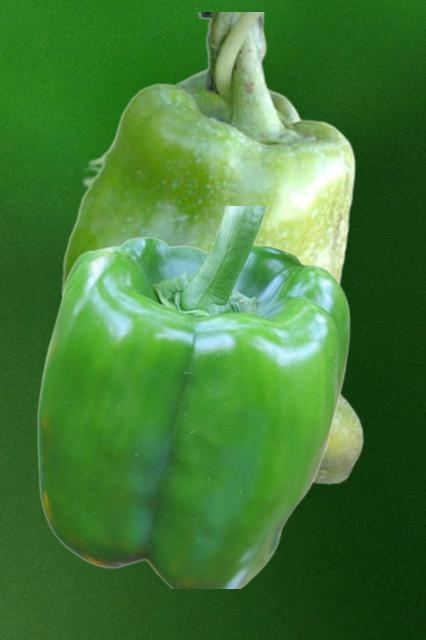bell_pepper: (60, 12, 363, 483), (36, 206, 349, 587)
